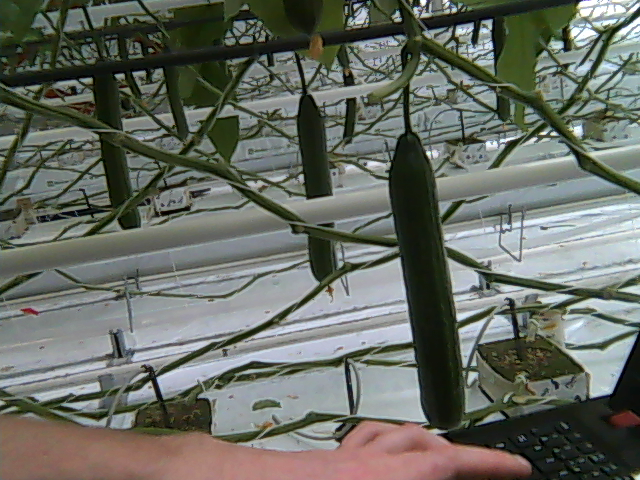concombre: (384, 124, 472, 435)
